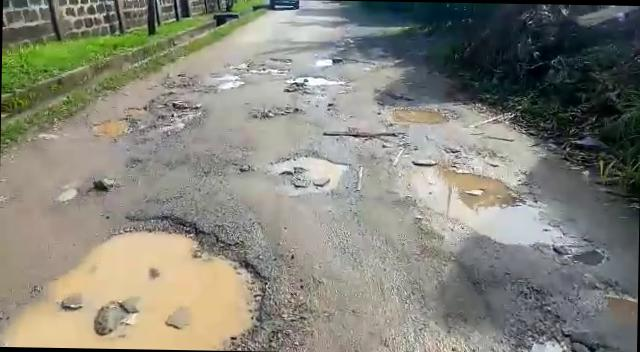pothole: (0, 208, 276, 351), (404, 161, 576, 250), (89, 98, 203, 144), (270, 149, 350, 192), (385, 103, 459, 126), (222, 58, 294, 76), (323, 128, 404, 142), (248, 103, 306, 120), (284, 72, 347, 86)
